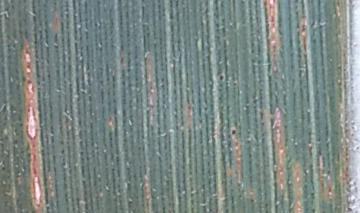tarspot: (218, 74, 226, 82), (347, 206, 354, 213), (231, 128, 237, 136)
